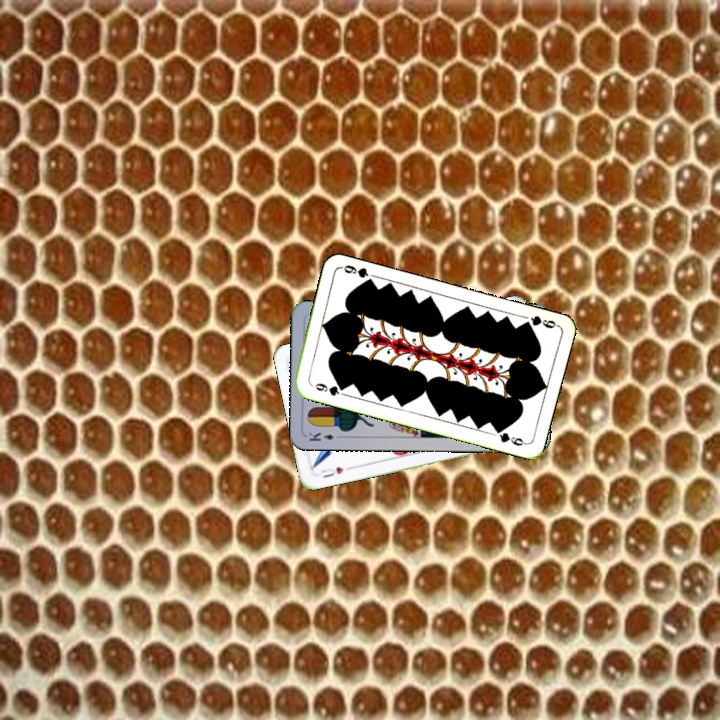EK: (305, 428, 345, 444)
G9: (518, 311, 560, 331), (306, 379, 348, 398)
HU: (317, 463, 346, 480)
